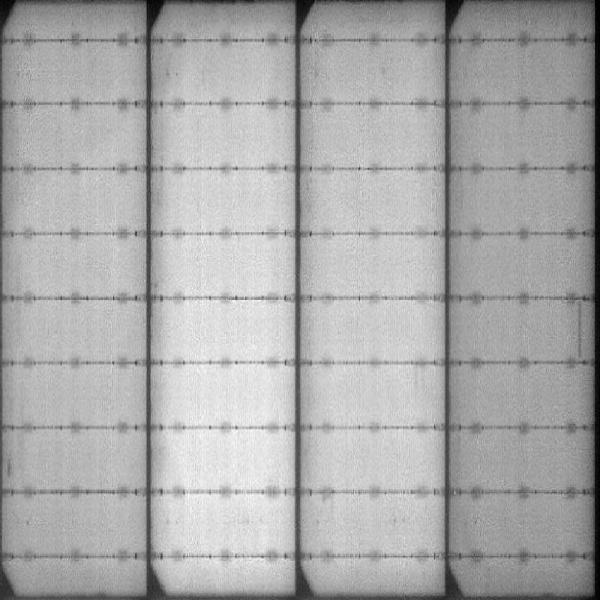scratch: (571, 298, 588, 363)
